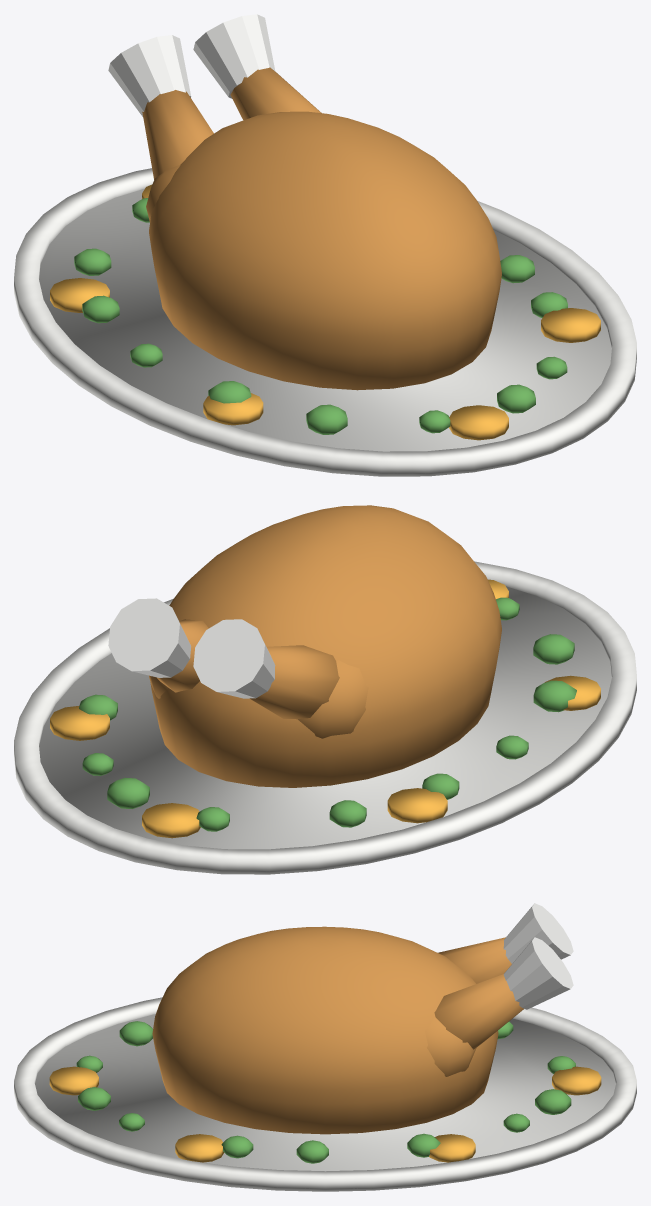
The model's file is roast-turkey.glb.
The picture shows the model from 3 angles, top to bottom: view 1: azimuth 30°, elevation 25°; view 2: azimuth 150°, elevation 25°; view 3: azimuth 270°, elevation 25°; orthographic projection. The views are drawn at different scales.
Parts seen in each view (by area): view 1: roast, platter, drumsticks-frills, parsley, drumsticks, orange; view 2: platter, roast, drumsticks-frills, drumsticks, parsley, orange; view 3: roast, platter, drumsticks, parsley, drumsticks-frills, orange.
Part boxes in pixels (left/top/right/bottom): roast: left=149, top=111, right=501, bottom=390; platter: left=14, top=168, right=636, bottom=476; drumsticks-frills: left=108, top=14, right=275, bottom=117; parsley: left=74, top=198, right=567, bottom=434; drumsticks: left=142, top=67, right=321, bottom=222; orange: left=50, top=184, right=600, bottom=440; platter: left=14, top=561, right=636, bottom=874; roast: left=150, top=505, right=501, bottom=787; drumsticks-frills: left=108, top=598, right=275, bottom=698; drumsticks: left=149, top=619, right=368, bottom=738; parsley: left=79, top=597, right=576, bottom=831; orange: left=50, top=579, right=600, bottom=838; roast: left=152, top=926, right=498, bottom=1134; platter: left=14, top=997, right=636, bottom=1191; drumsticks: left=425, top=937, right=523, bottom=1076; parsley: left=76, top=1021, right=575, bottom=1163; drumsticks-frills: left=503, top=903, right=573, bottom=1009; orange: left=49, top=1066, right=601, bottom=1162.
Size of the model in its own units: 0.418 by 0.1792 by 0.558.
